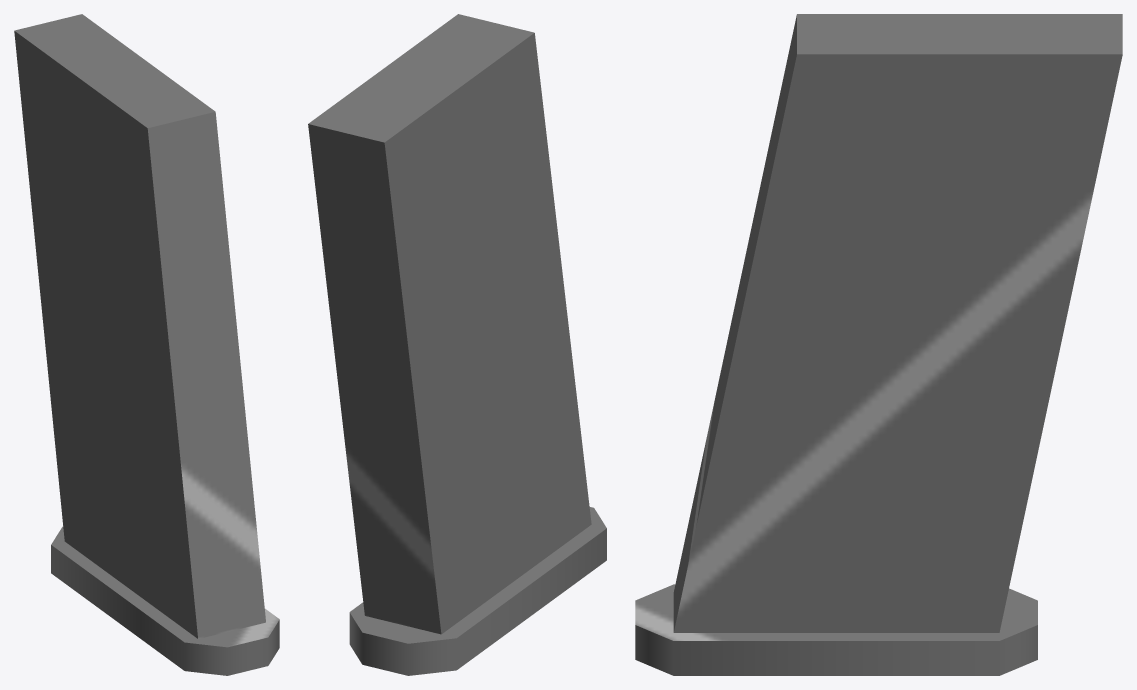
File: FSP-S6-Mag.obj
3 views of the same model, side by side, from view 1: azimuth 30°, elevation 25°; view 2: azimuth 150°, elevation 25°; view 3: azimuth 270°, elevation 25° (orthographic). The views are drawn at different scales.
Parts seen in each view (by area): view 1: FSP-S6-Mag; view 2: FSP-S6-Mag; view 3: FSP-S6-Mag.
Part boxes in pixels (x1=…): FSP-S6-Mag: x1=14, y1=14, x2=279, y2=675; FSP-S6-Mag: x1=308, y1=14, x2=606, y2=675; FSP-S6-Mag: x1=635, y1=14, x2=1122, y2=675.
Size of the model in its own units: 0.07 by 0.3532 by 0.2544.
